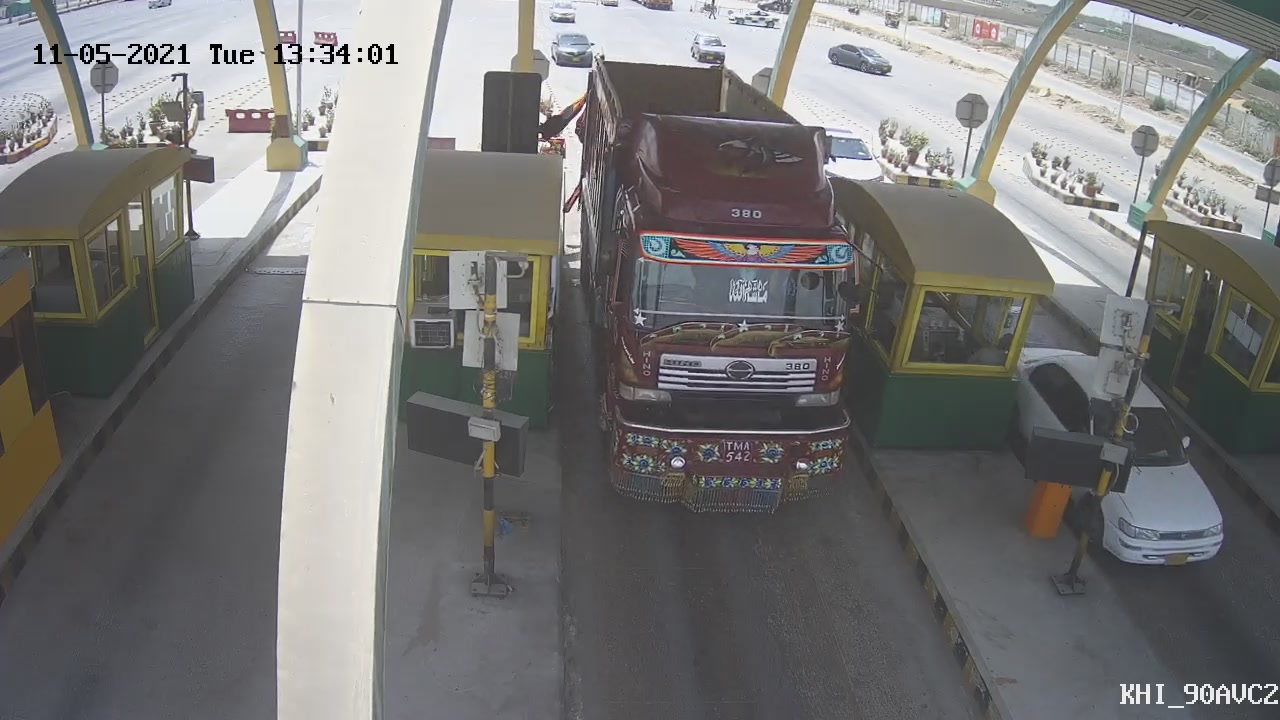F5: (578, 53, 865, 522)
